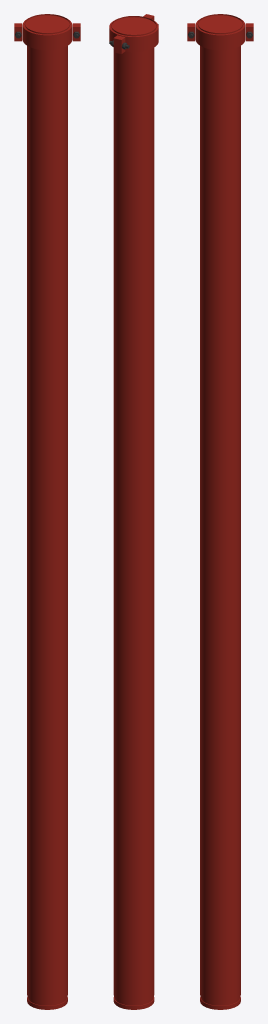
The model's file is Kit_RiserPipe_3m.fbx.
The picture shows the model from 3 angles, left to right: view 1: azimuth 90°, elevation 25°; view 2: azimuth 150°, elevation 25°; view 3: azimuth 270°, elevation 25°; orthographic projection.
Visible parts, largest first — view 1: Kit_RiserPipe_3m_LOD0; view 2: Kit_RiserPipe_3m_LOD0; view 3: Kit_RiserPipe_3m_LOD0.
Part boxes in pixels (<box>): Kit_RiserPipe_3m_LOD0: <box>14,14,80,1009</box>; Kit_RiserPipe_3m_LOD0: <box>109,14,158,1009</box>; Kit_RiserPipe_3m_LOD0: <box>187,14,253,1009</box>.
Size of what is drawn, in the model's own units: 0.1393 by 3.03 by 0.1853.
